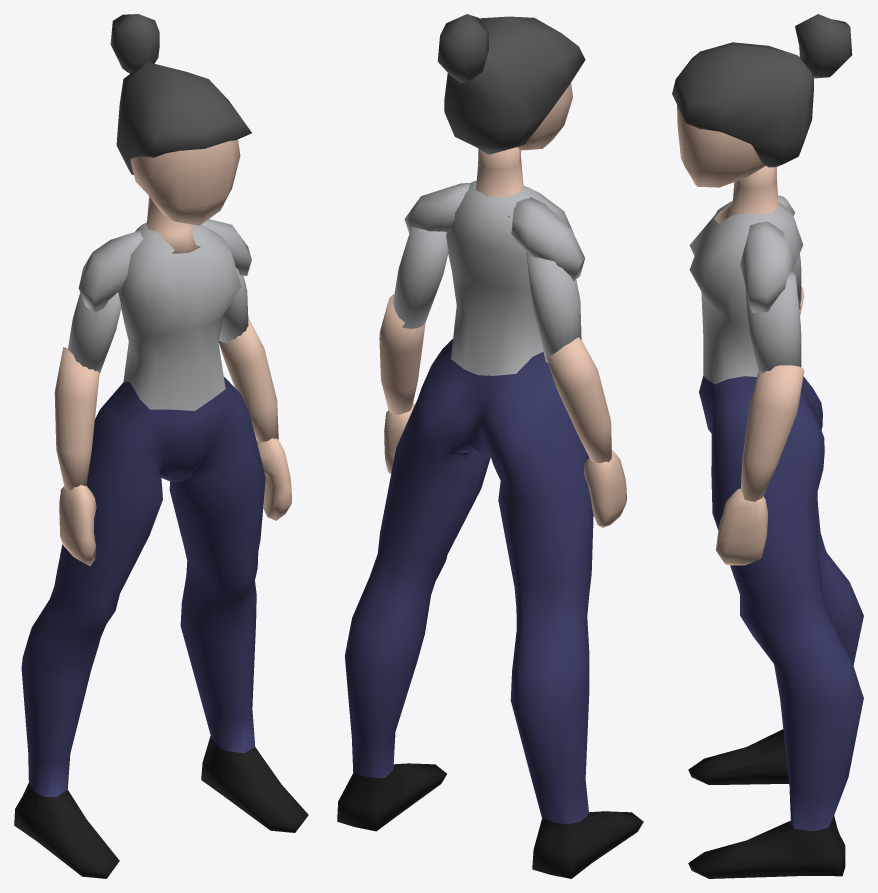
File: PolygonTest.glb
The picture shows the model from 3 angles, left to right: view 1: azimuth 30°, elevation 25°; view 2: azimuth 150°, elevation 25°; view 3: azimuth 270°, elevation 25°; orthographic projection. The views are drawn at different scales.
Visible parts, largest first — view 1: Roundcube.006, Roundcube.003, Roundcube.004; view 2: Roundcube.006, Roundcube.003, Roundcube.004; view 3: Roundcube.006, Roundcube.004, Roundcube.003.
Boxes of the visible parts, x1,y1,x2,y2 form: Roundcube.006: [14, 14, 308, 878]; Roundcube.003: [54, 230, 143, 566]; Roundcube.004: [201, 219, 291, 520]; Roundcube.006: [337, 14, 643, 878]; Roundcube.003: [511, 197, 626, 527]; Roundcube.004: [379, 183, 470, 473]; Roundcube.006: [672, 14, 863, 878]; Roundcube.004: [716, 221, 804, 565]; Roundcube.003: [778, 195, 804, 315].
Size of the model in its own units: 1.34 by 4.28 by 0.9177.
